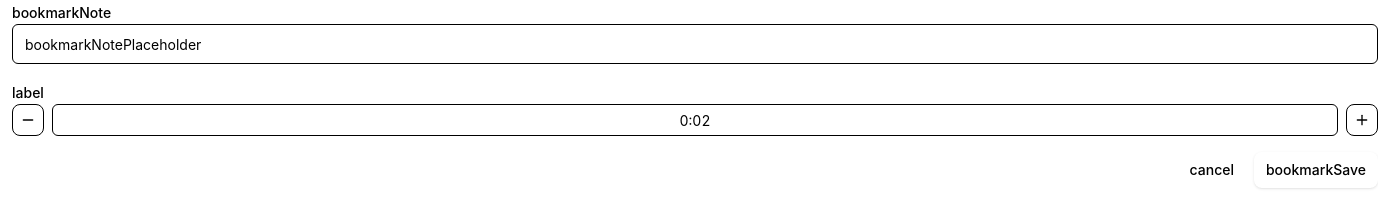
Test: BookmarkForm › clamps stepping at zero
Click the button named "subtractSeconds({\"seconds\":5})": (28, 120) [12, 104, 44, 136]
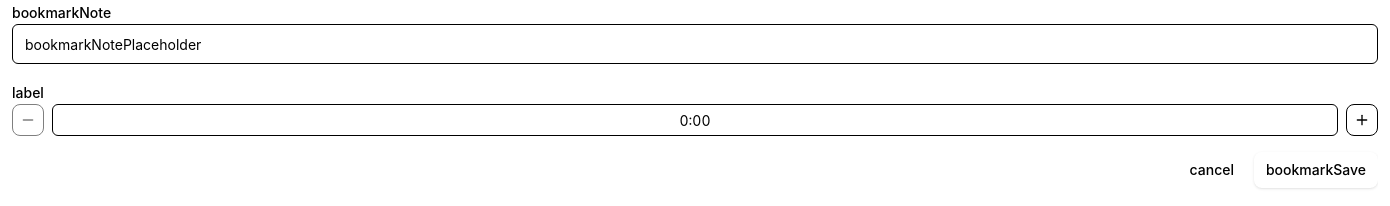
Result: the field labelled "label" holds "0:00" at [52, 104, 1338, 136]
